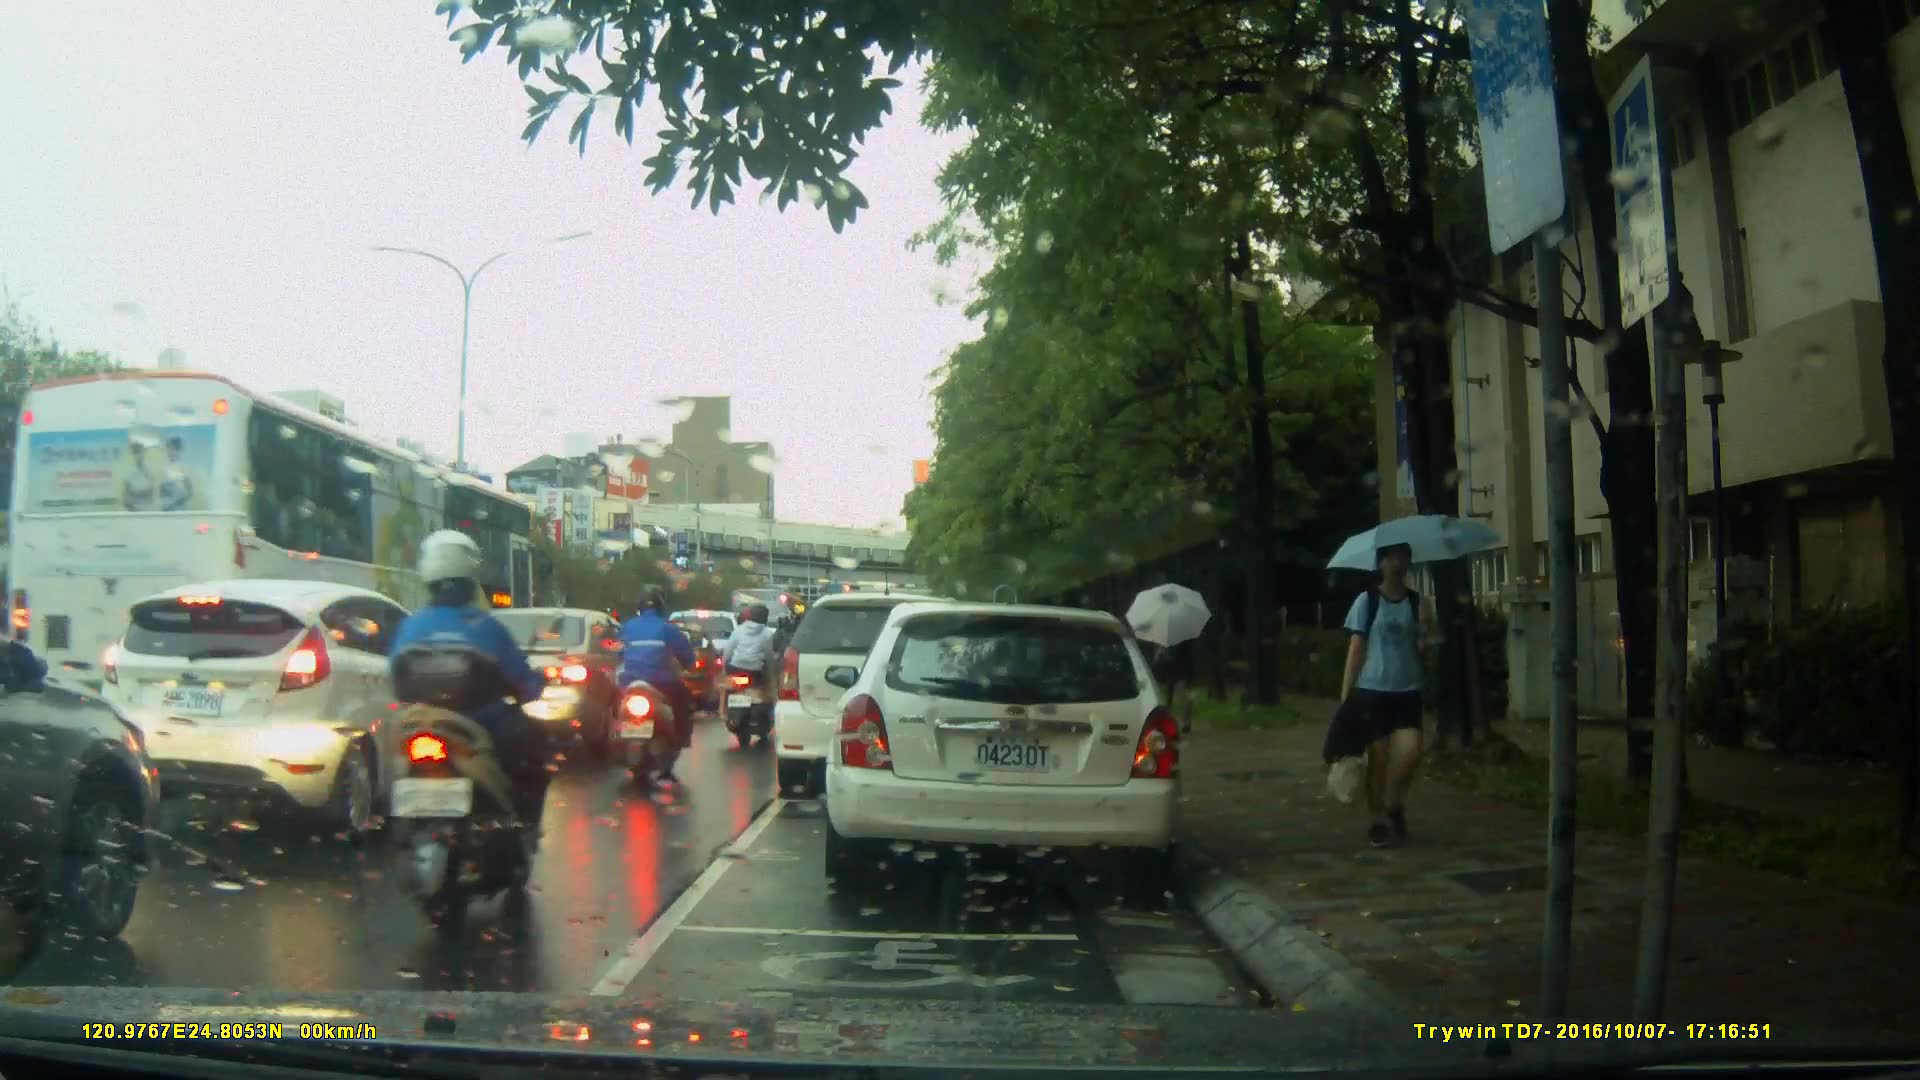pedestrian: (1327, 539, 1473, 849), (1145, 613, 1192, 729)
rider: (381, 523, 555, 929), (616, 588, 699, 780), (728, 597, 792, 755)
vehicle: (5, 365, 543, 754), (835, 594, 1194, 898), (93, 576, 486, 846), (776, 590, 1026, 784), (415, 605, 661, 753), (610, 619, 725, 718)
